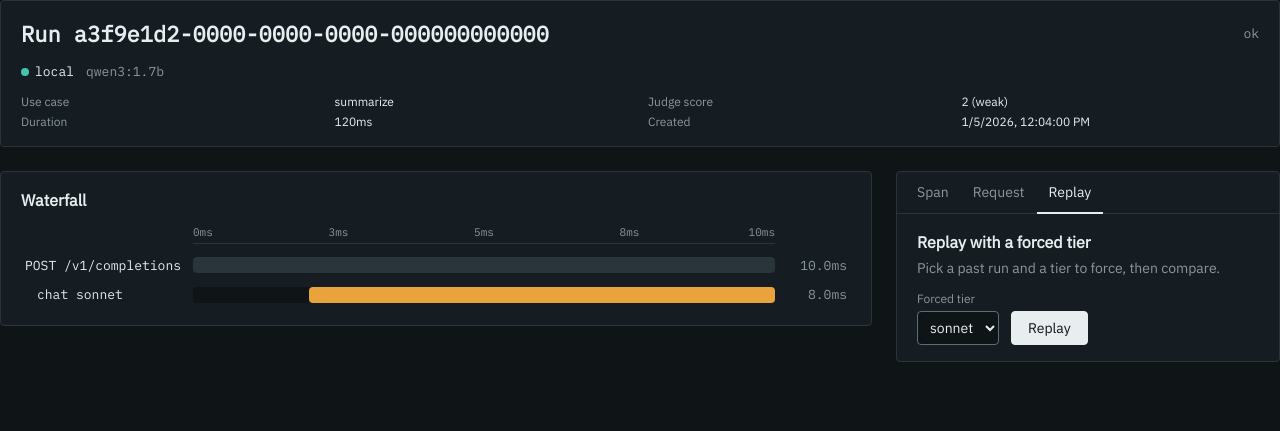
Test case: RunWaterfallPage › trace view › shows the request and response on the Request tab
Expected: the text "chat sonnet" is shown, 37,286 -> 123,303
Click the tab "Request": (999, 192) 961,172 -> 1036,214
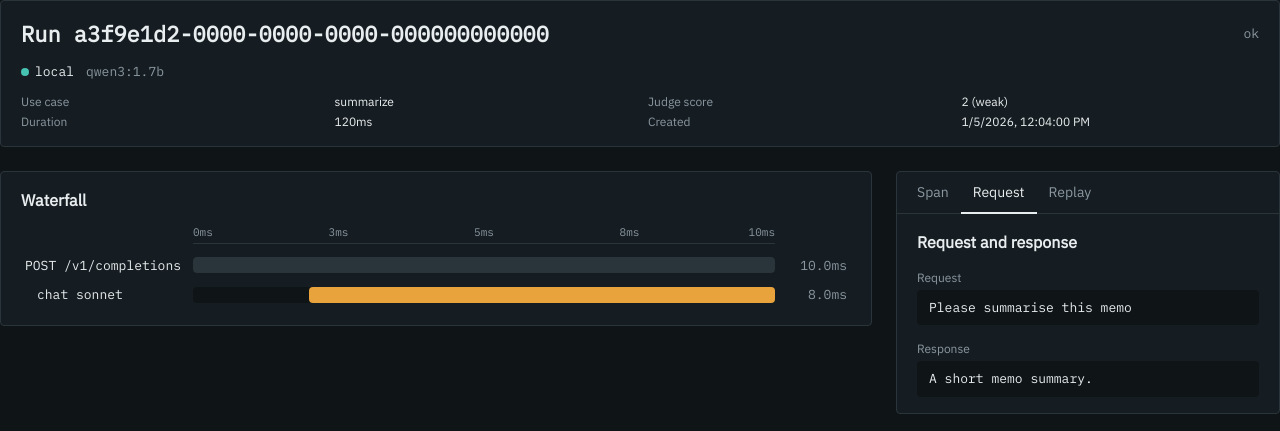
Now the text "Please summarise this memo" is shown, box 917,290 -> 1259,325
Now the text "A short memo summary." is shown, box 917,361 -> 1259,396
